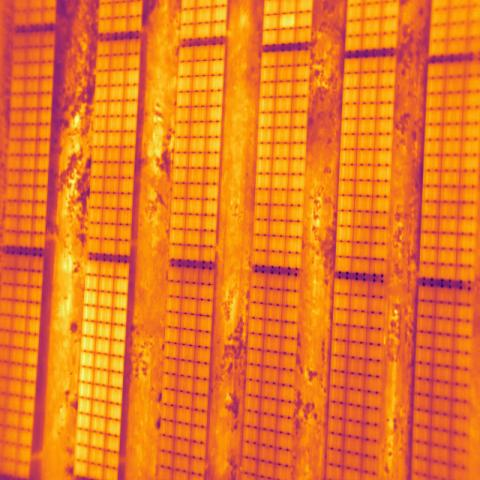fault: (279, 13, 296, 28)
